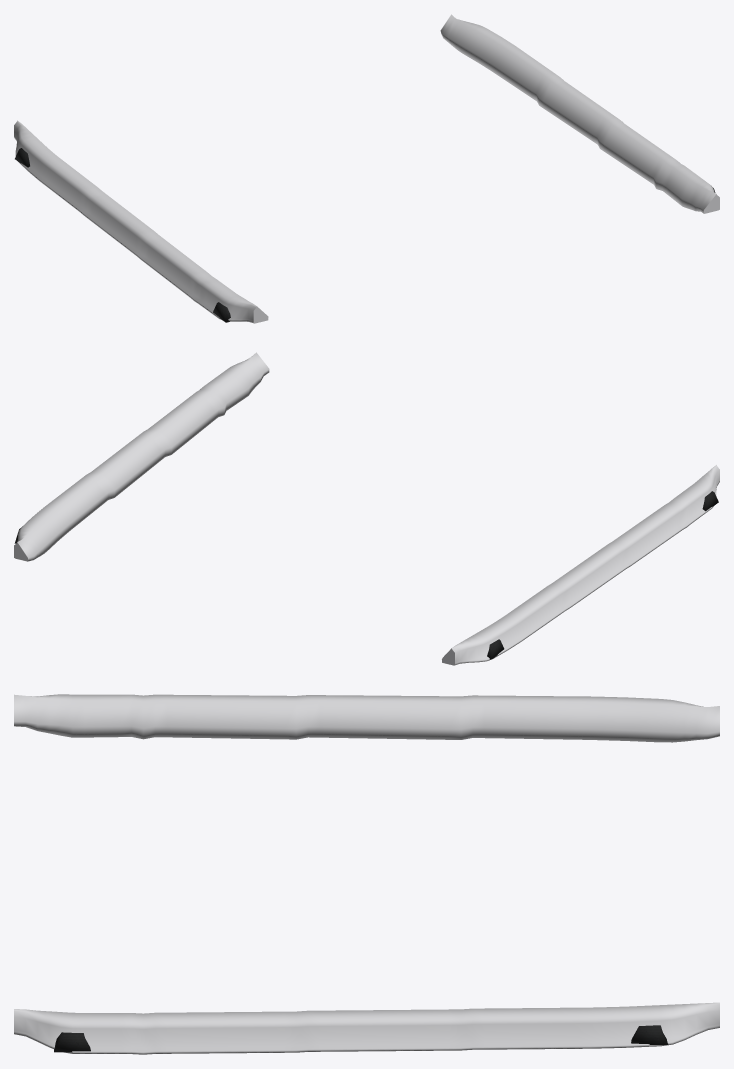
File: WB11_widebody_skirts.glb
3 renders of one model, top to bottom at view 1: azimuth 30°, elevation 25°; view 2: azimuth 150°, elevation 25°; view 3: azimuth 270°, elevation 25°, orthographic. The views are drawn at different scales.
Parts seen in each view (by area): view 1: MOD_NA_WB11_skirt_L, MOD_NA_WB11_skirt_R; view 2: MOD_NA_WB11_skirt_L, MOD_NA_WB11_skirt_R; view 3: MOD_NA_WB11_skirt_R, MOD_NA_WB11_skirt_L, MOD_NA_WB11_fin_Lf, MOD_NA_WB11_fin_Lr.
Part boxes in pixels (x1=…): MOD_NA_WB11_skirt_L: x1=440, y1=14, x2=719, y2=213; MOD_NA_WB11_skirt_R: x1=14, y1=120, x2=268, y2=323; MOD_NA_WB11_skirt_L: x1=14, y1=352, x2=269, y2=561; MOD_NA_WB11_skirt_R: x1=442, y1=465, x2=719, y2=665; MOD_NA_WB11_skirt_R: x1=14, y1=694, x2=719, y2=742; MOD_NA_WB11_skirt_L: x1=14, y1=1002, x2=719, y2=1054; MOD_NA_WB11_fin_Lf: x1=54, y1=1032, x2=90, y2=1052; MOD_NA_WB11_fin_Lr: x1=631, y1=1025, x2=668, y2=1044.
Bounding box in the file's own units: 1.69 × 0.084 × 1.5.
2 materials, 1 textured.
